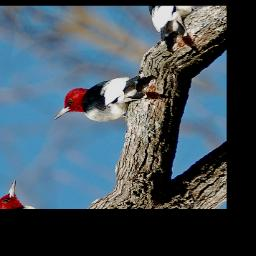Woodpecker: (50, 52, 158, 151)
